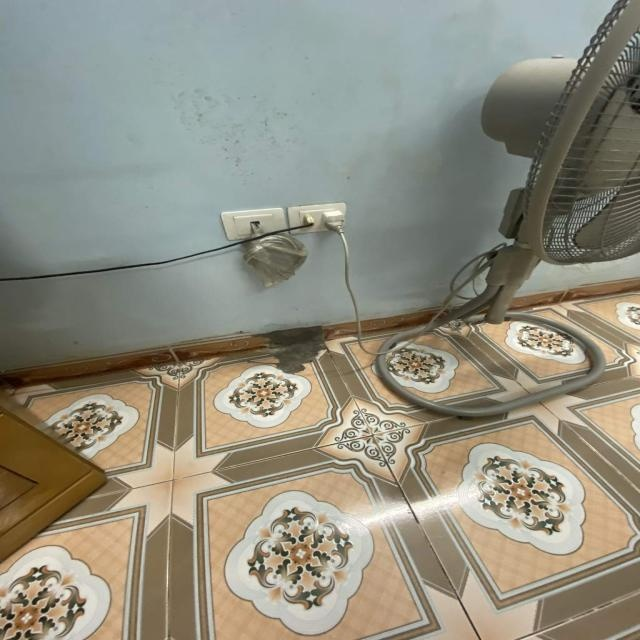outlet: (219, 207, 285, 241), (287, 202, 346, 235)
